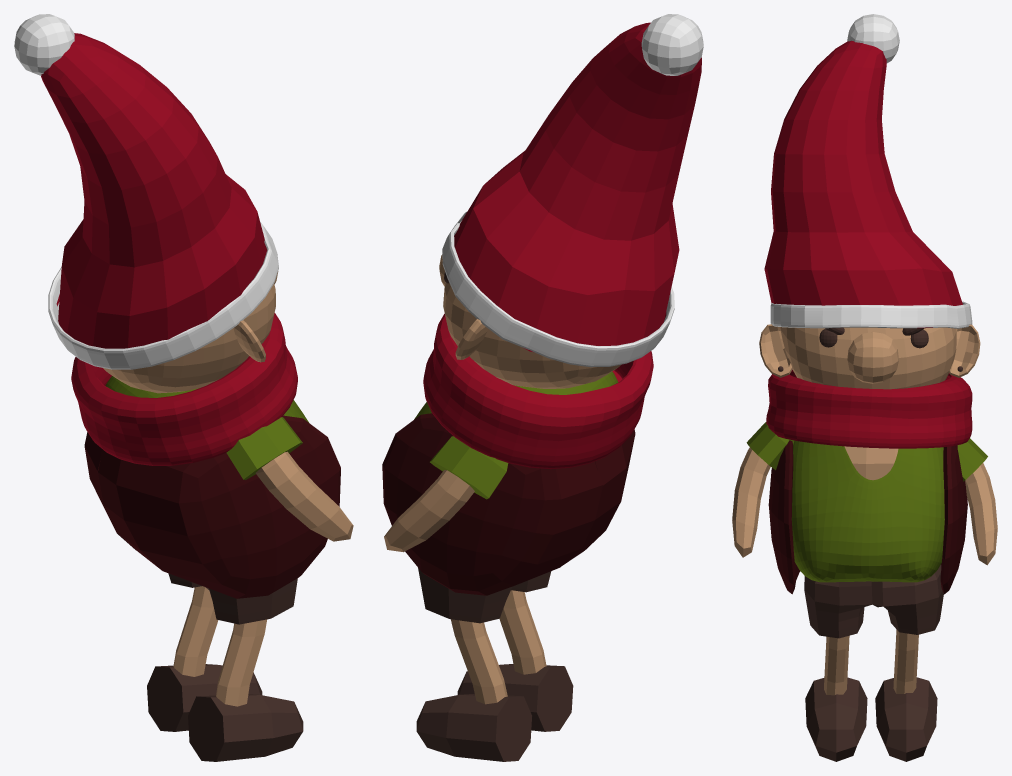
The model's file is NISSE.fbx.
3 renders of one model, left to right at view 1: azimuth 30°, elevation 25°; view 2: azimuth 150°, elevation 25°; view 3: azimuth 270°, elevation 25°, orthographic. The views are drawn at different scales.
Visible parts, largest first — view 1: Cube.002, Cube.010, Cube.005, Cube.011, Cube.003, Cube.013, Cube.009, Cube.014, Cube.020, Cube.015, Cube.006, Cube.004; view 2: Cube.002, Cube.010, Cube.005, Cube.014, Cube.003, Cube.013, Cube.011, Cube.008, Cube.020, Cube.015, Cube.007, Cube.004; view 3: Cube.002, Cube.004, Cube.005, Cube.003, Cube.015, Cube.010, Cube.014, Cube.011, Cube.013, Cube.009, Cube.008, Cube.020 (+3 smaller).
Part boxes in pixels (x1,y1,x2,y2): Cube.002: [41, 33, 278, 369]; Cube.010: [84, 415, 340, 598]; Cube.005: [71, 313, 297, 465]; Cube.011: [188, 694, 303, 761]; Cube.003: [103, 271, 278, 393]; Cube.013: [173, 586, 267, 706]; Cube.009: [255, 451, 353, 541]; Cube.014: [147, 664, 262, 731]; Cube.020: [14, 14, 74, 75]; Cube.015: [168, 573, 297, 624]; Cube.006: [226, 417, 302, 479]; Cube.004: [105, 376, 308, 422]; Cube.002: [442, 22, 701, 367]; Cube.010: [382, 413, 635, 595]; Cube.005: [423, 314, 653, 469]; Cube.014: [416, 694, 531, 761]; Cube.003: [439, 254, 620, 388]; Cube.013: [451, 590, 546, 704]; Cube.011: [457, 664, 573, 731]; Cube.008: [384, 470, 474, 552]; Cube.020: [641, 14, 703, 75]; Cube.015: [418, 568, 551, 623]; Cube.007: [430, 436, 508, 499]; Cube.004: [414, 371, 618, 419]; Cube.002: [764, 40, 972, 328]; Cube.004: [791, 440, 944, 582]; Cube.005: [766, 370, 972, 448]; Cube.003: [759, 324, 980, 389]; Cube.015: [804, 565, 943, 638]; Cube.010: [768, 440, 967, 594]; Cube.014: [875, 677, 937, 761]; Cube.011: [805, 677, 867, 761]; Cube.013: [824, 629, 918, 695]; Cube.009: [732, 447, 770, 557]; Cube.008: [965, 463, 997, 565]; Cube.020: [847, 14, 899, 63].
Bounding box in the file's own units: 313 × 778 × 286.
